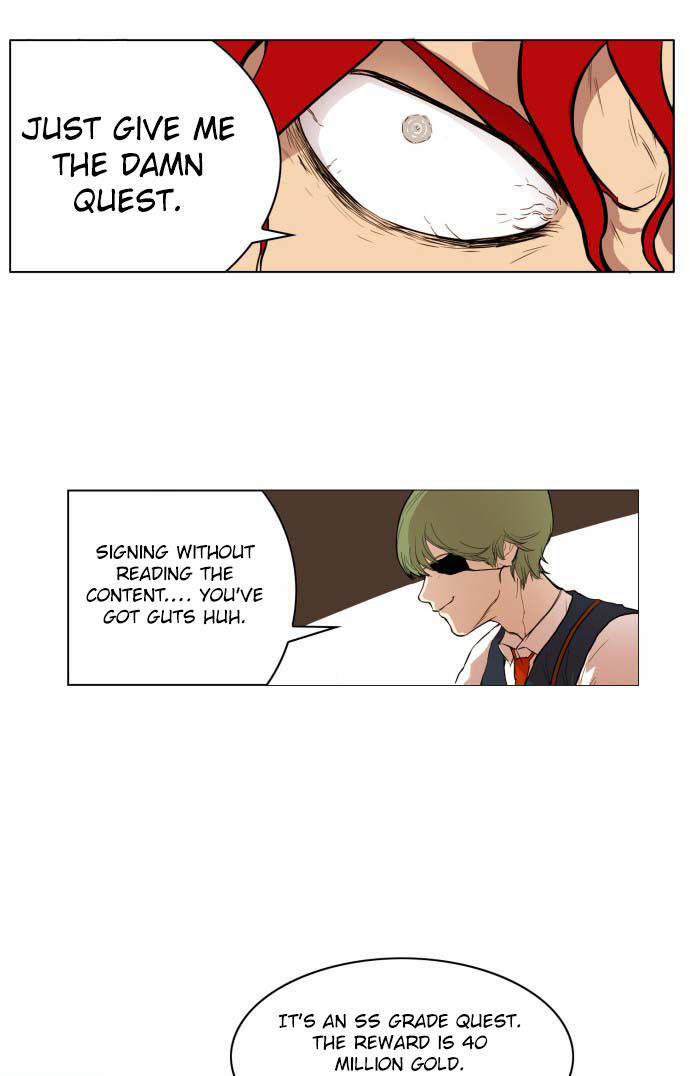bubble: (10, 39, 296, 273), (68, 490, 340, 686), (230, 957, 572, 1076)
